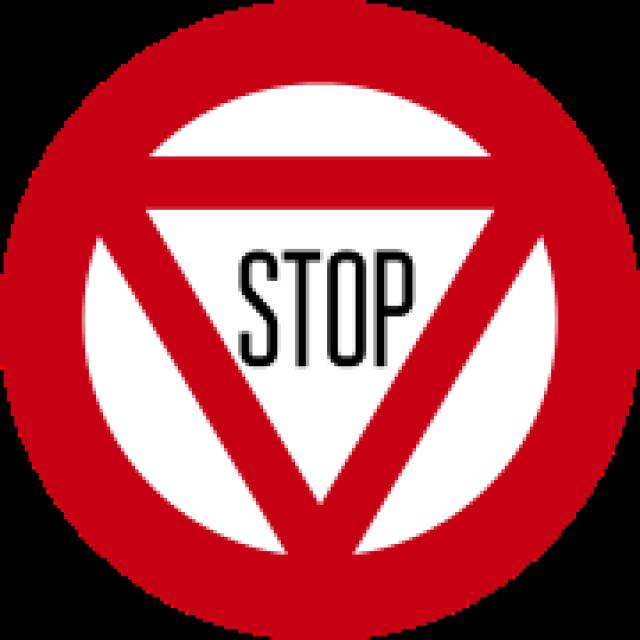Traffic sign: (40, 78, 602, 586)
